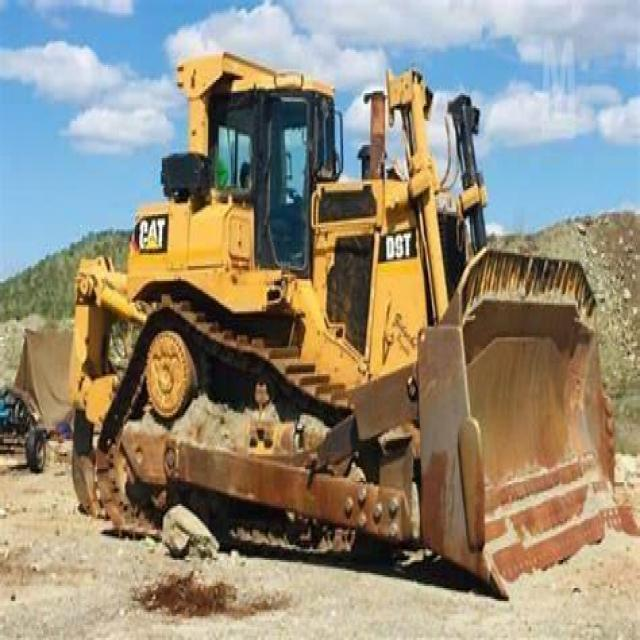Bulldozer: (66, 41, 623, 605)
